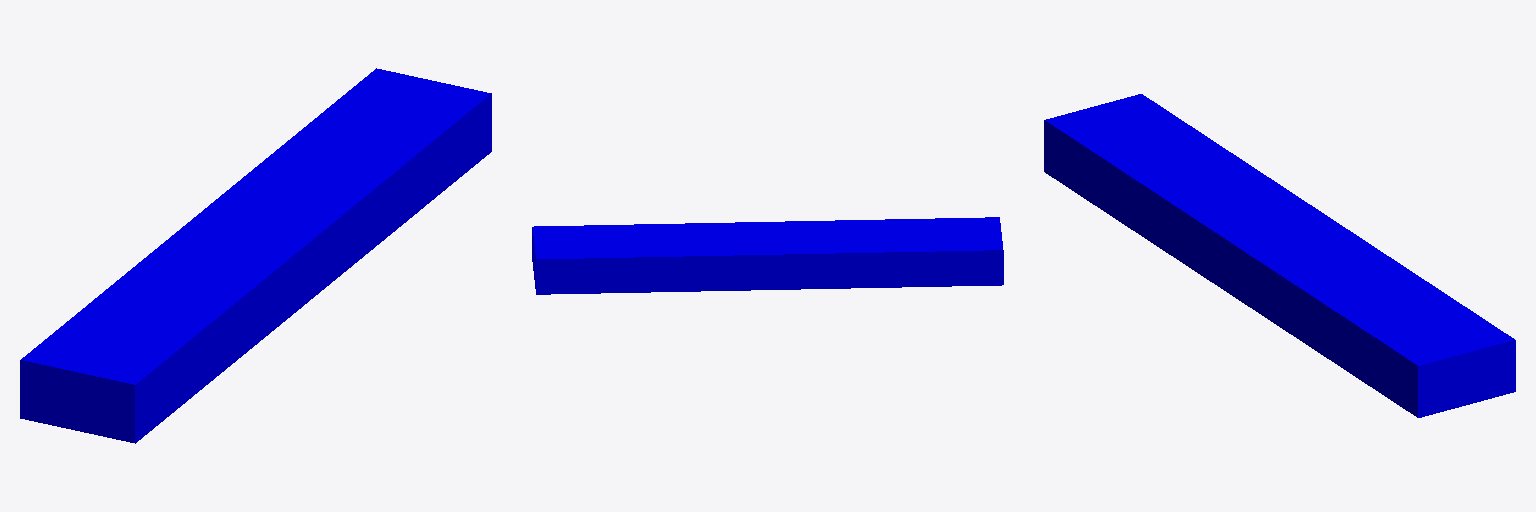
The robot description file, URDF, robot "blue_bar":
<?xml version="1.0"?>
<robot name="blue_bar">
  <material name="blue">
    <color rgba="0.0 0.0 1.0 1.0"/>
  </material>

  <link name="box">
    <visual>
      <material name="blue"/>
      <origin xyz="0.0 0.0 0.005" rpy="0.0 0.0 -1.0"/>
      <geometry>
        <box size="0.02 0.12 0.01"/>
      </geometry>
    </visual>
  </link>
</robot>

--- Render facts (derived) ---
3 views of the same robot in one strip: view 1: azimuth 30°, elevation 25°; view 2: azimuth 150°, elevation 25°; view 3: azimuth 270°, elevation 25° (orthographic).
Robot: blue_bar — 1 links, 0 joints (none); root link box; default pose: all joints at 0.
Visible links, largest first — view 1: box; view 2: box; view 3: box.
Boxes of the visible links, bbox=[...] form: box: bbox=[20, 68, 491, 443]; box: bbox=[532, 217, 1003, 294]; box: bbox=[1044, 94, 1515, 417].
Bounding box of the posed robot: 0.1118 × 0.0817 × 0.01 m (x, y, z).
Geometry: primitives only (box / cylinder / sphere), no mesh files.